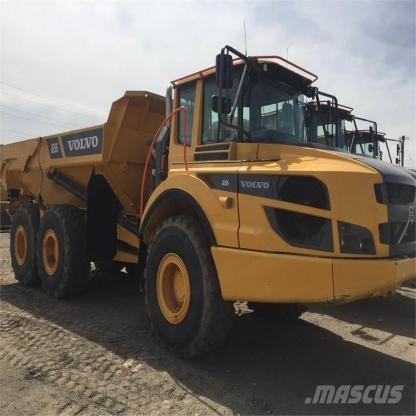dump_truck: (12, 44, 416, 369)
